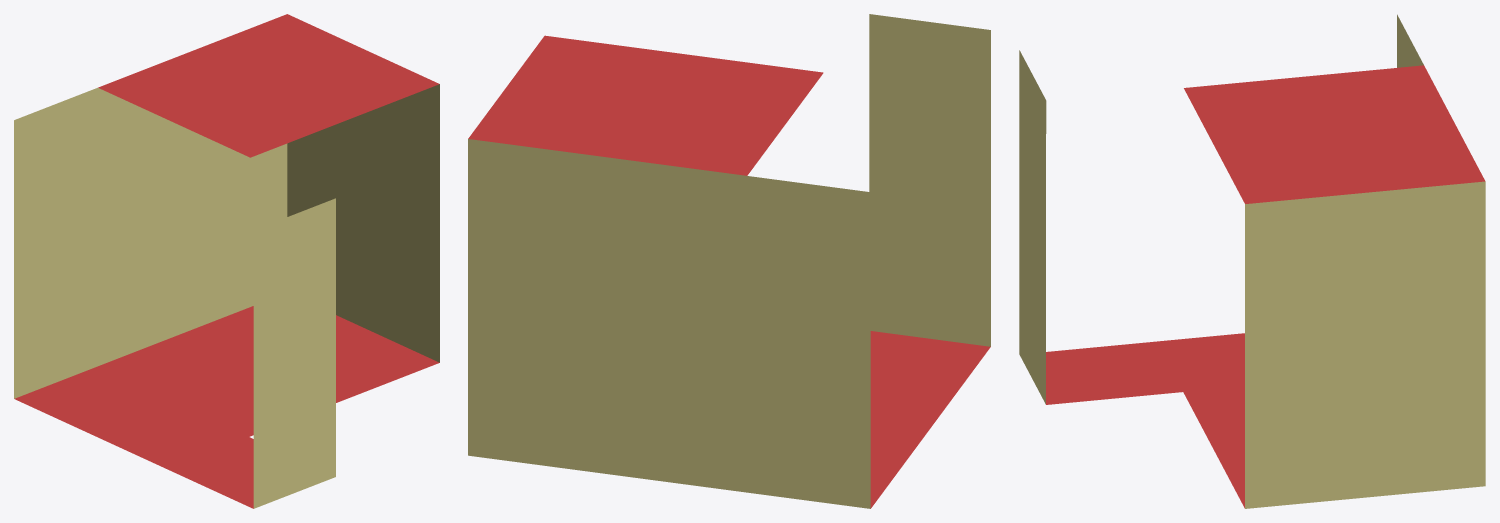
3 views of the same model, side by side, from view 1: azimuth 30°, elevation 25°; view 2: azimuth 150°, elevation 25°; view 3: azimuth 270°, elevation 25° (orthographic). The views are drawn at different scales.
Bounding box in the file's own units: 7.04 × 7.29 × 5.26.
